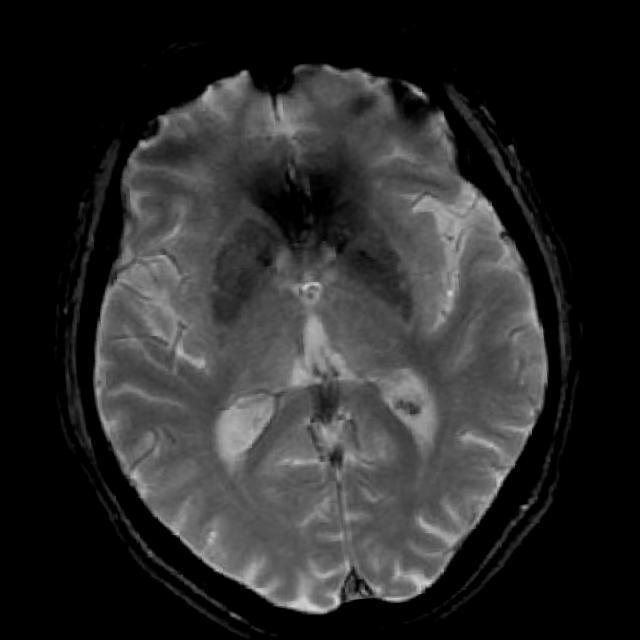CN: (226, 128, 372, 232), (187, 259, 299, 319), (334, 240, 406, 298)
